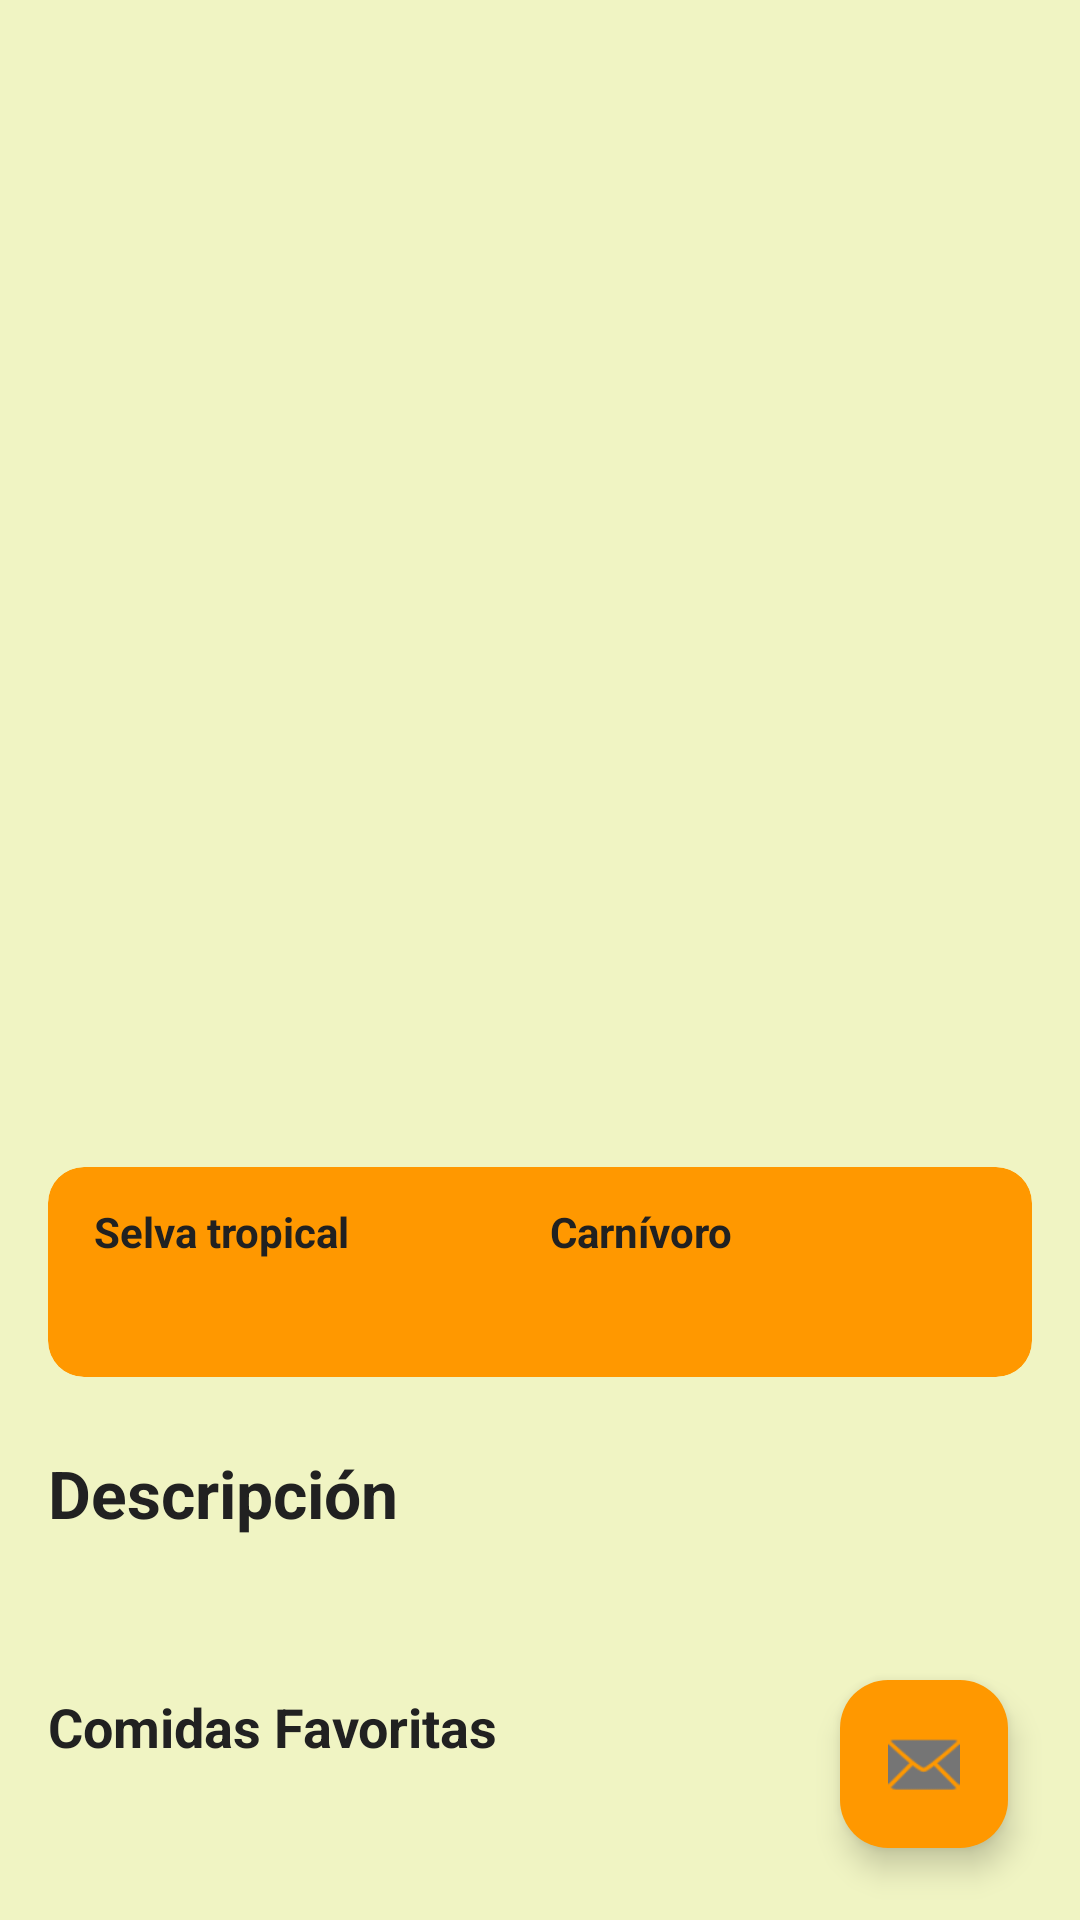

Icons on this 1080px x 1920px Android screen, each with its box as (x1,y1,x2,y2):
email: (840,1680,1008,1848)
